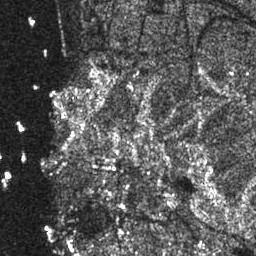ship: (1, 171, 12, 187), (15, 121, 26, 133), (26, 16, 37, 27), (20, 153, 27, 162), (42, 48, 48, 58)
